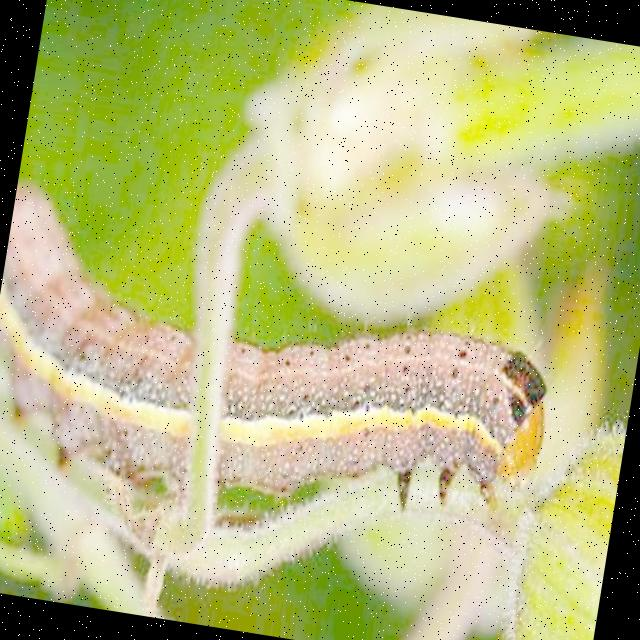worm: (1, 183, 569, 553)
